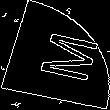M_W: (18, 26, 92, 84)
